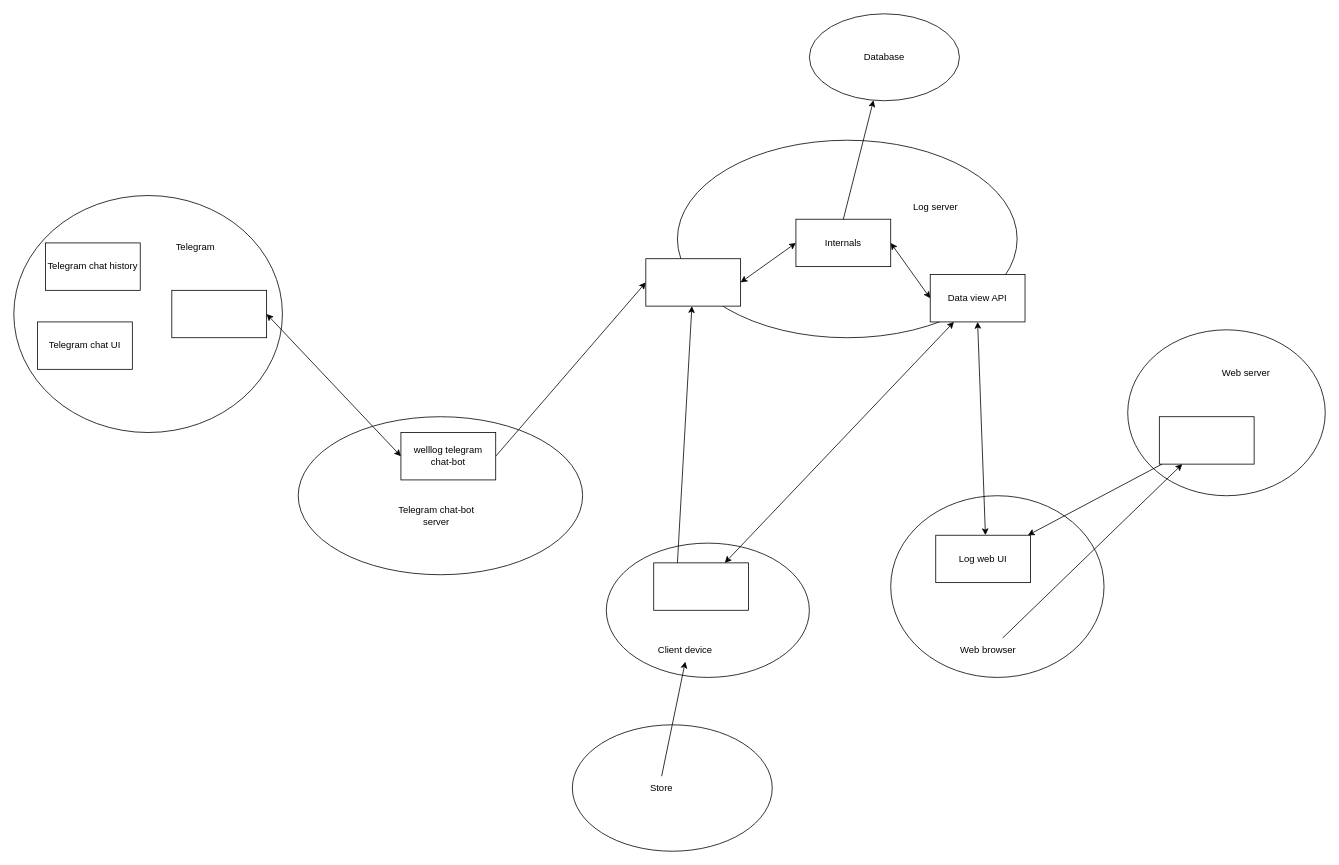
This 1339x865 diagram has some shape labels left out. Here are the shapes that lost their labels. From the top down, the box of each, then its label:
(645, 258, 741, 306): Data post API
(171, 290, 267, 338): Telegram API
(1159, 416, 1254, 464): Web hoste service
(653, 562, 749, 610): Log App
